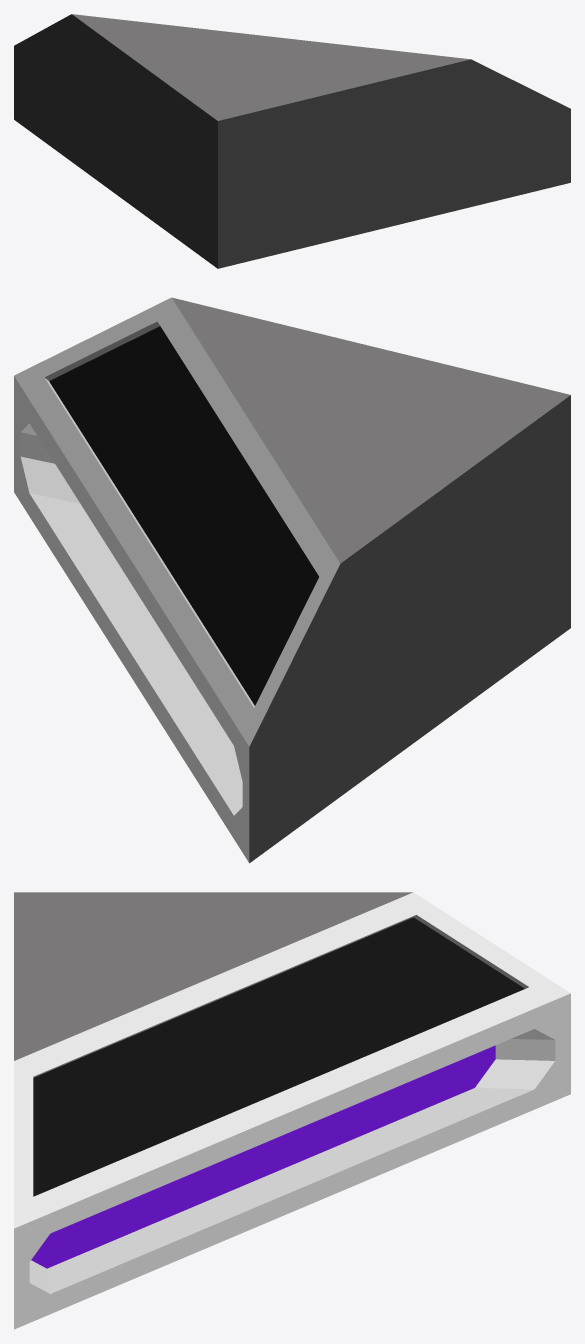
File: PlatformBorder00b_2.5HardCorner2.fbx
3 renders of one model, top to bottom at view 1: azimuth 30°, elevation 25°; view 2: azimuth 150°, elevation 25°; view 3: azimuth 270°, elevation 25°, orthographic. The views are drawn at different scales.
Visible parts, largest first — view 1: PlatformBorder00b_2.5HardCorner2; view 2: PlatformBorder00b_2.5HardCorner2; view 3: PlatformBorder00b_2.5HardCorner2.
Part boxes in pixels (x1=…): PlatformBorder00b_2.5HardCorner2: x1=14, y1=14, x2=570, y2=268; PlatformBorder00b_2.5HardCorner2: x1=14, y1=297, x2=570, y2=863; PlatformBorder00b_2.5HardCorner2: x1=14, y1=892, x2=570, y2=1329.
Bounding box in the file's own units: 250 × 100 × 250.
